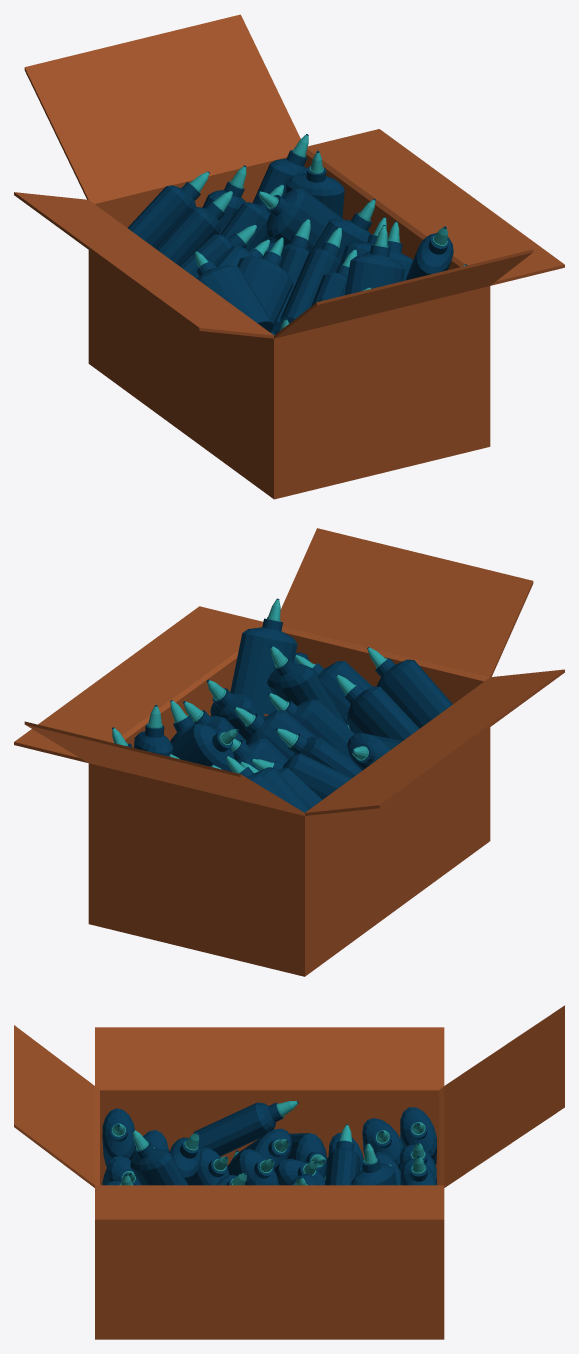
File: caixa de cola final final.fbx
3 renders of one model, top to bottom at view 1: azimuth 30°, elevation 25°; view 2: azimuth 150°, elevation 25°; view 3: azimuth 270°, elevation 25°, orthographic. The views are drawn at different scales.
Visible parts, largest first — view 1: Caixa; view 2: Caixa; view 3: Caixa.
Part boxes in pixels (x1,y1,x2,y2): Caixa: (14,14,564,499); Caixa: (14,528,564,976); Caixa: (14,1005,564,1339).
Bounding box in the file's own units: 1417 × 925 × 1965.
